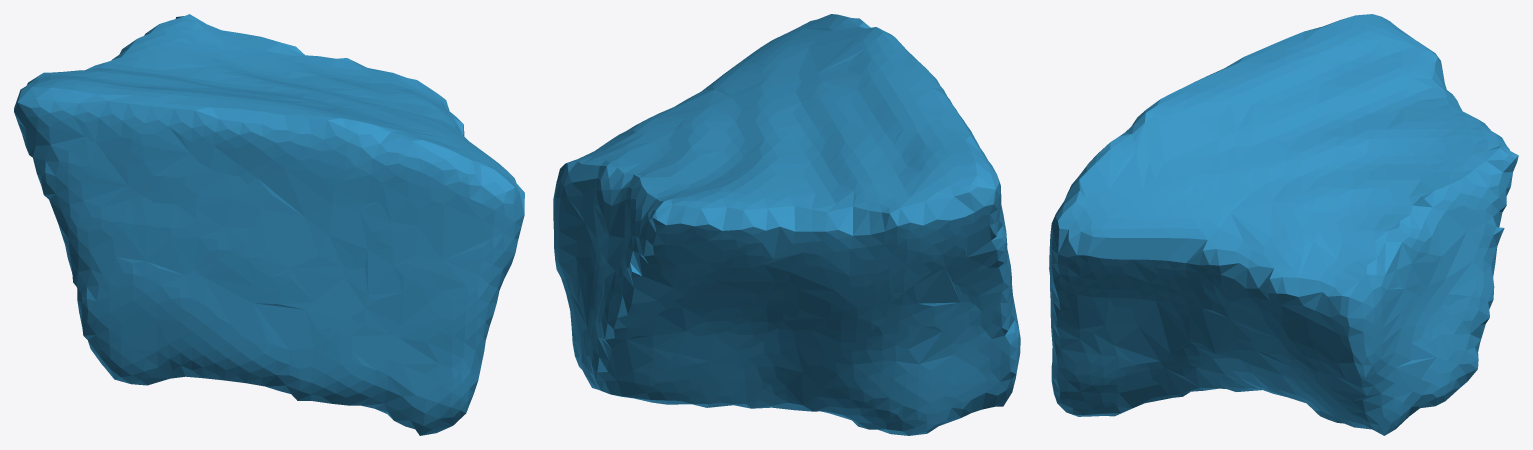
Rendered from Model_10108_LH__Parietal_area_PF_(PF).obj.
The picture shows the model from 3 angles, left to right: view 1: azimuth 30°, elevation 25°; view 2: azimuth 150°, elevation 25°; view 3: azimuth 270°, elevation 25°; orthographic projection. The views are drawn at different scales.
Size of the model in its own units: 2.8 by 1.92 by 2.83.
